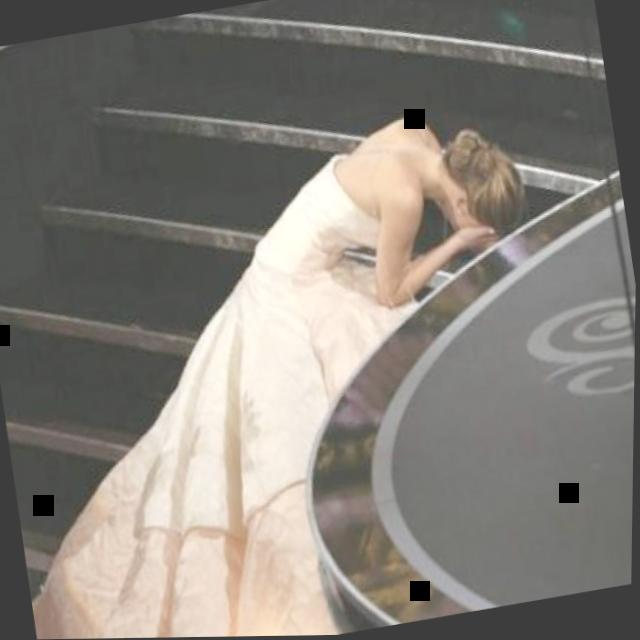Fall-Detected: (0, 68, 617, 640)
